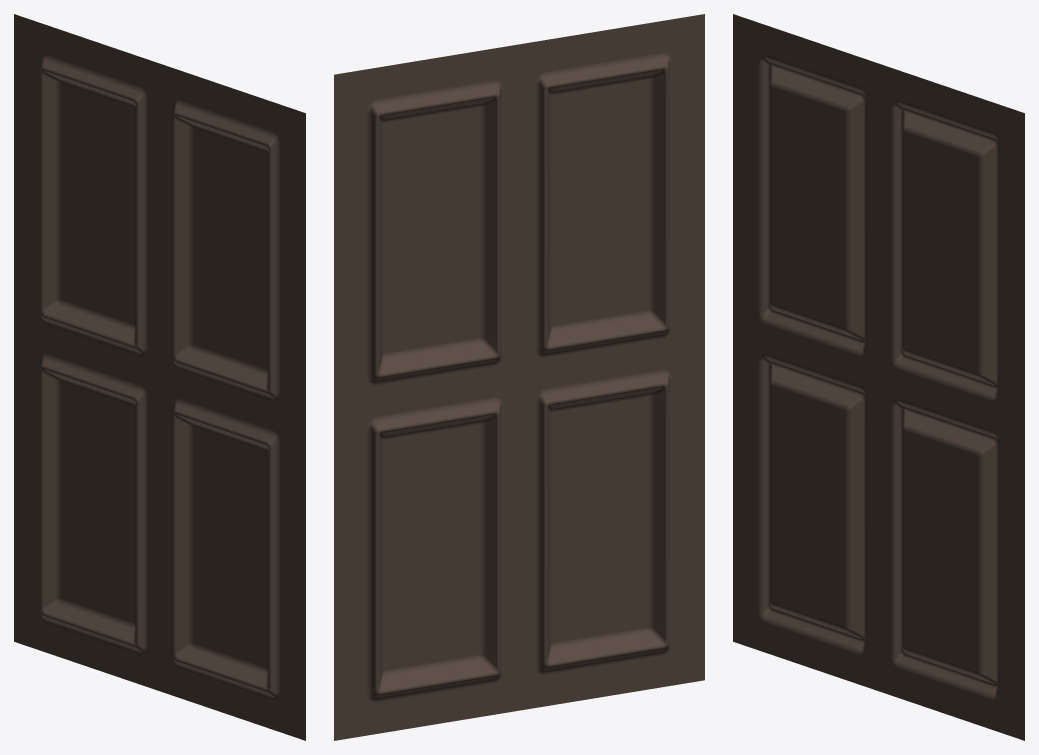
The picture shows the model from 3 angles, left to right: view 1: azimuth 90°, elevation 25°; view 2: azimuth 150°, elevation 25°; view 3: azimuth 270°, elevation 25°; orthographic projection. The views are drawn at different scales.
Visible parts, largest first — view 1: Plane.027; view 2: Plane.027; view 3: Plane.027.
Boxes of the visible parts, bbox=[...] form: Plane.027: bbox=[14, 14, 305, 740]; Plane.027: bbox=[334, 14, 704, 740]; Plane.027: bbox=[733, 14, 1024, 740].
Size of the model in its own units: 0.5344 by 1.58 by 0.6639.
